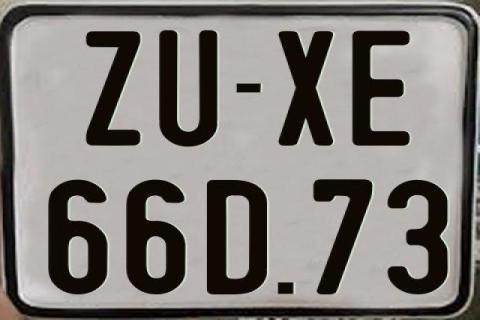0: (386, 178, 451, 296), (310, 180, 372, 298), (45, 177, 106, 293), (125, 177, 184, 293)
D: (206, 179, 272, 299)
E: (349, 30, 412, 146)
U: (159, 30, 217, 146)
X: (276, 32, 332, 150)
Z: (84, 31, 142, 147)
